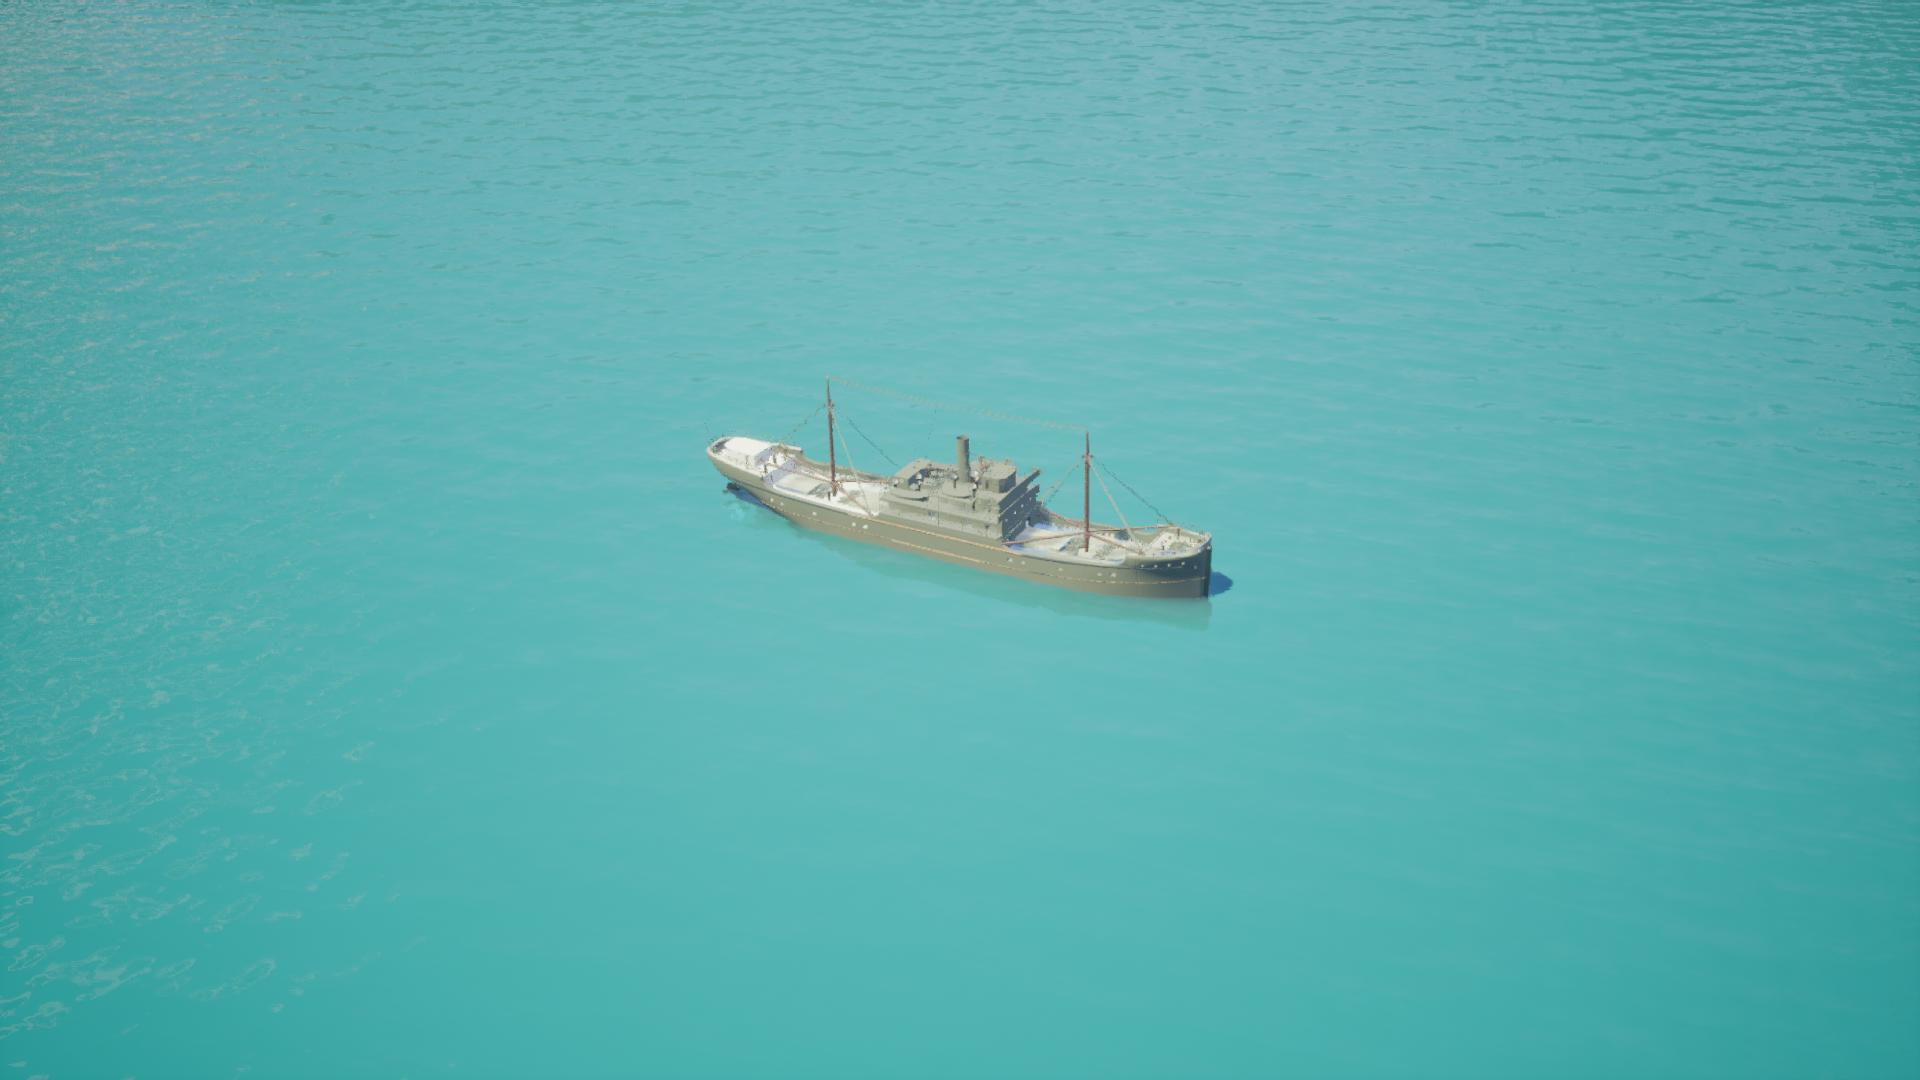Fishing Boat: (703, 377, 1220, 609)
